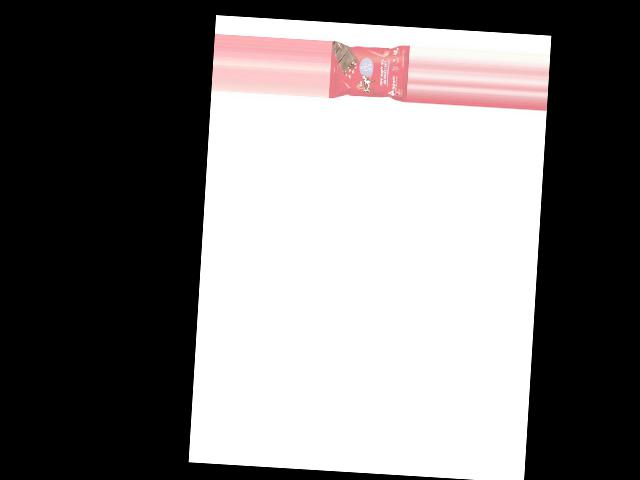chocolate: (329, 40, 410, 100)
